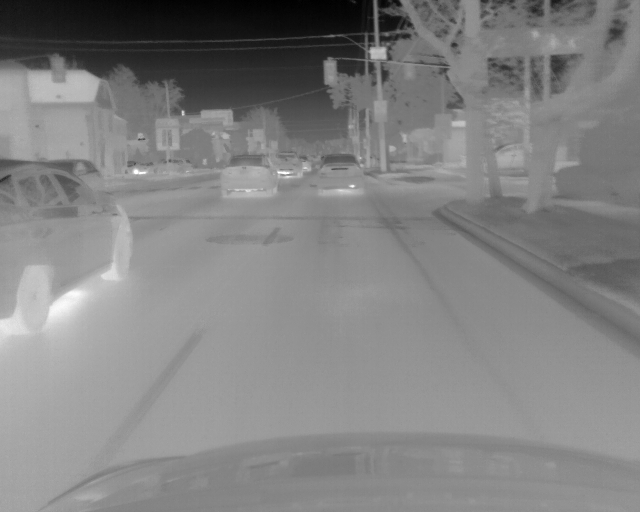car: (1, 163, 132, 336), (221, 154, 278, 197), (51, 157, 106, 189), (319, 162, 363, 195), (492, 142, 529, 171), (273, 153, 302, 179), (160, 158, 195, 174), (321, 153, 354, 168), (299, 154, 312, 173)
